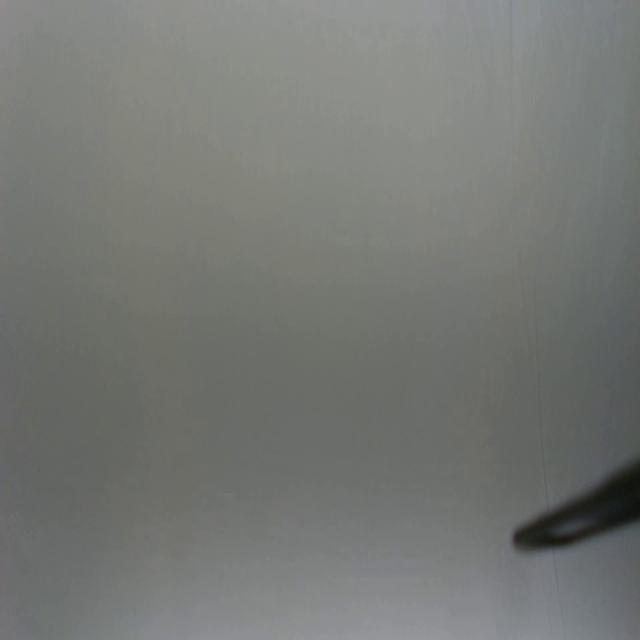crease: (507, 0, 552, 510)
